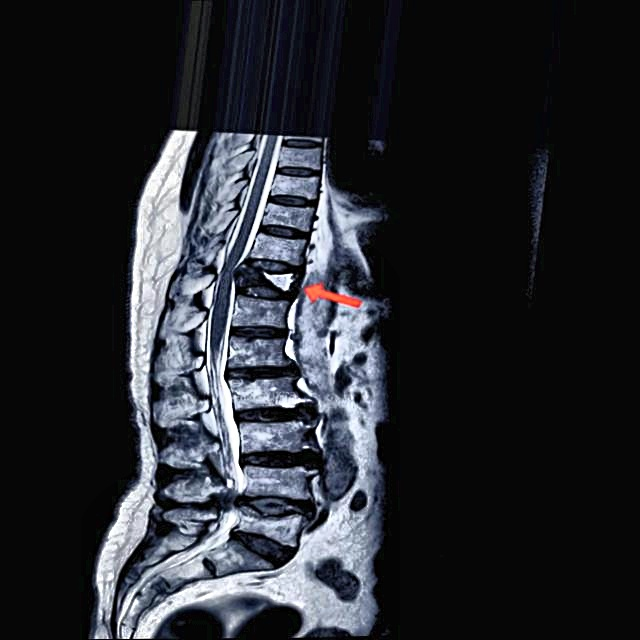Comminuted: (228, 245, 318, 320)
